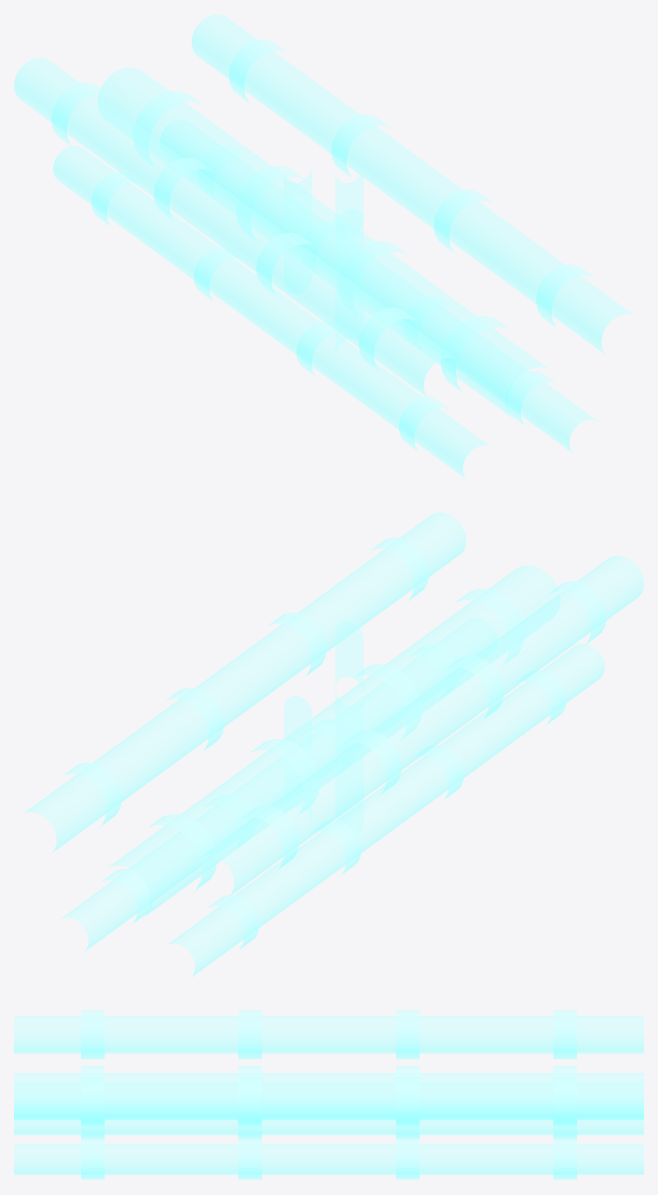
File: pipe.glb
3 views of the same model, one above another, from view 1: azimuth 30°, elevation 25°; view 2: azimuth 150°, elevation 25°; view 3: azimuth 270°, elevation 25° (orthographic). The views are drawn at different scales.
Bounding box in the file's own units: 1.31 × 1.16 × 4.
